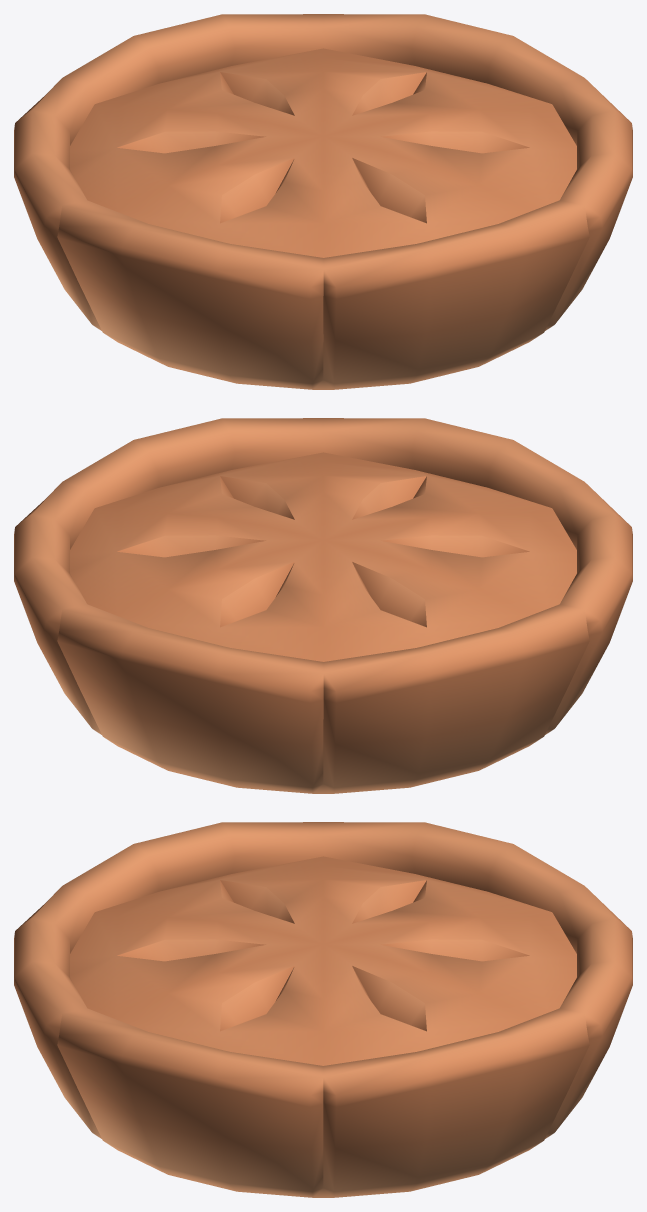
File: pie_apple.obj
3 views of the same model, one above another, from view 1: azimuth 30°, elevation 25°; view 2: azimuth 150°, elevation 25°; view 3: azimuth 270°, elevation 25° (orthographic).
Parts seen in each view (by area): view 1: pie_apple; view 2: pie_apple; view 3: pie_apple.
Part boxes in pixels (x1,y1,x2,y2): pie_apple: (14,14,632,389); pie_apple: (14,418,632,793); pie_apple: (14,822,632,1197).
Size of the model in its own units: 1.16 by 0.3153 by 1.14.
1 material, 1 textured.
